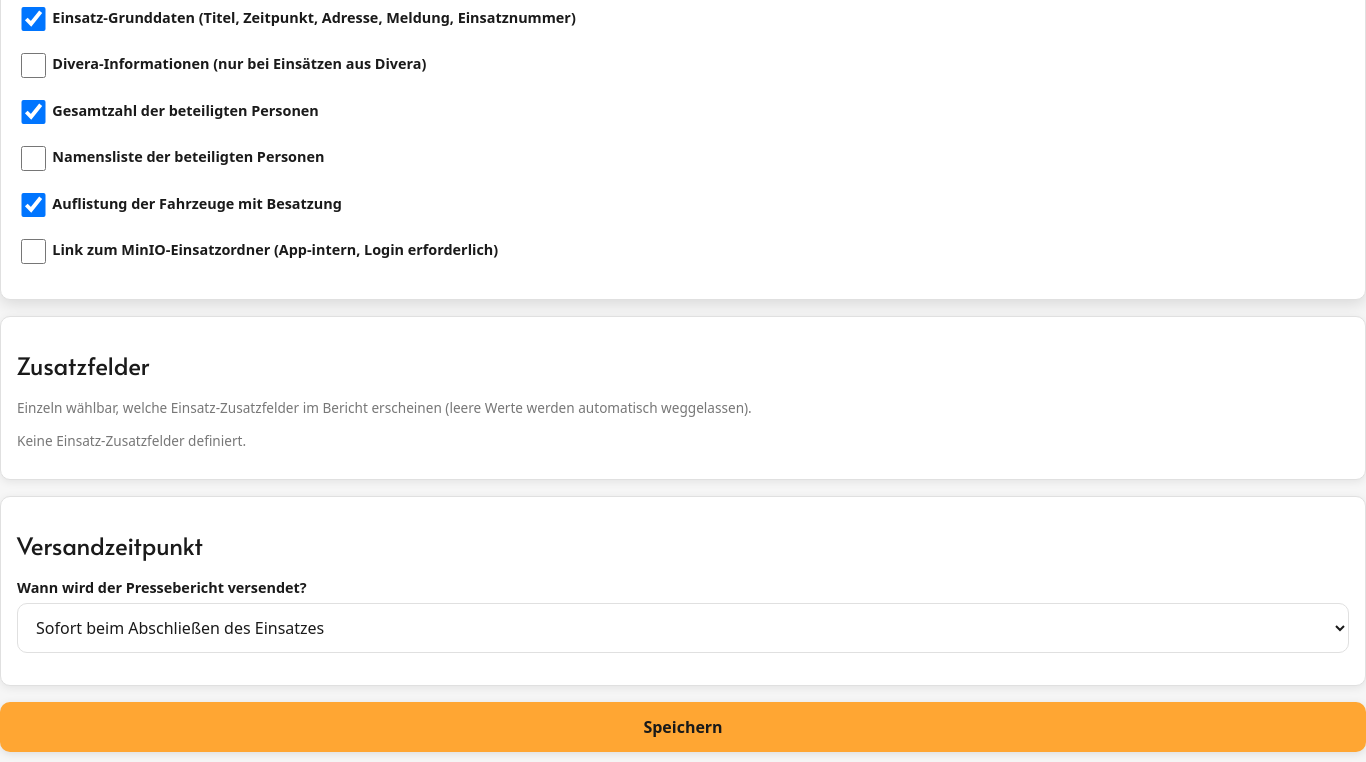
it: PresseberichtModul (Admin-Einstellungen) › zeigt das Stunden-Feld, wenn Versandmodus 'Stunden' gewählt wird
The width and height of the screenshot is (1366, 762).
(page scrolled)
Select "Eine bestimmte Anzahl Stunden nach Abschluss" in the dropdown labelled "Wann wird der Pressebericht versendet?". click: (683, 628)
box: [17,603,1349,653]
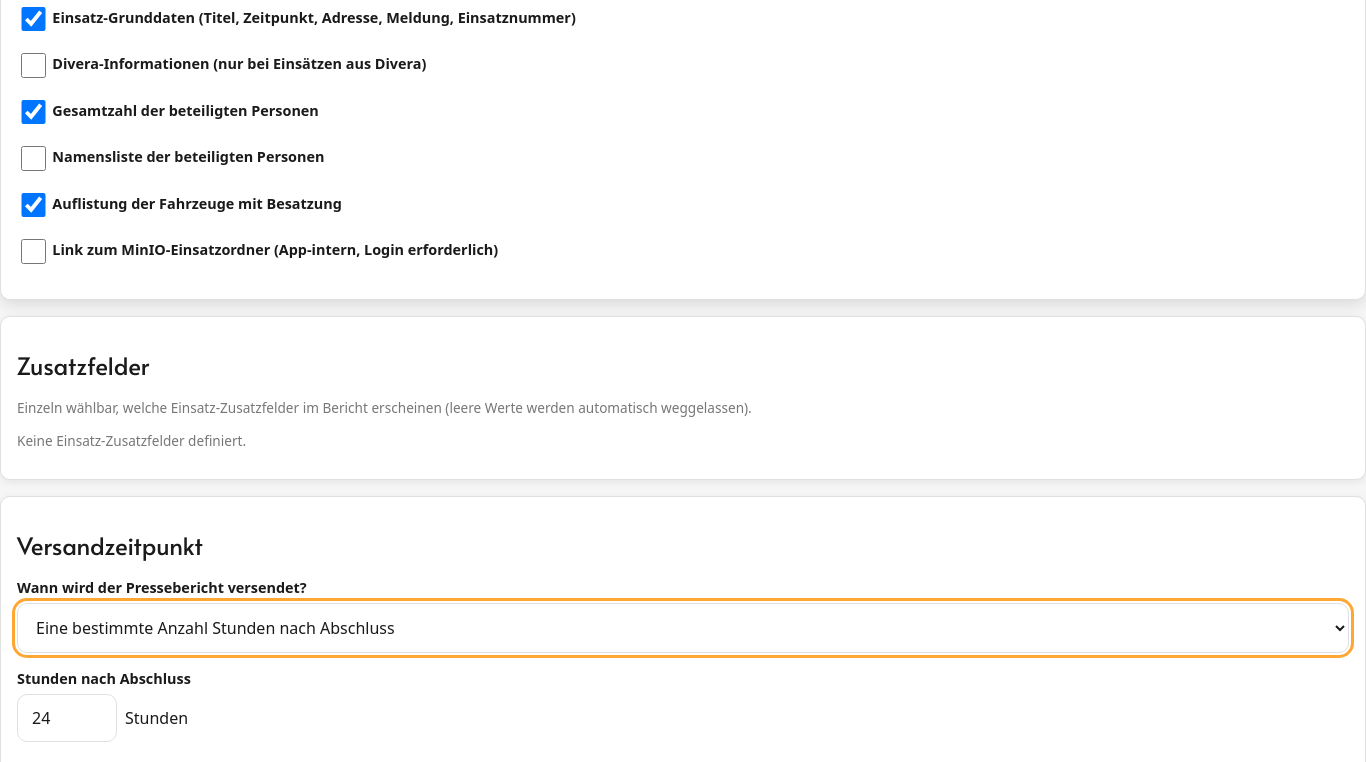
Expected: the number field labelled "Stunden nach Abschluss" is shown, [17,694,117,742]
